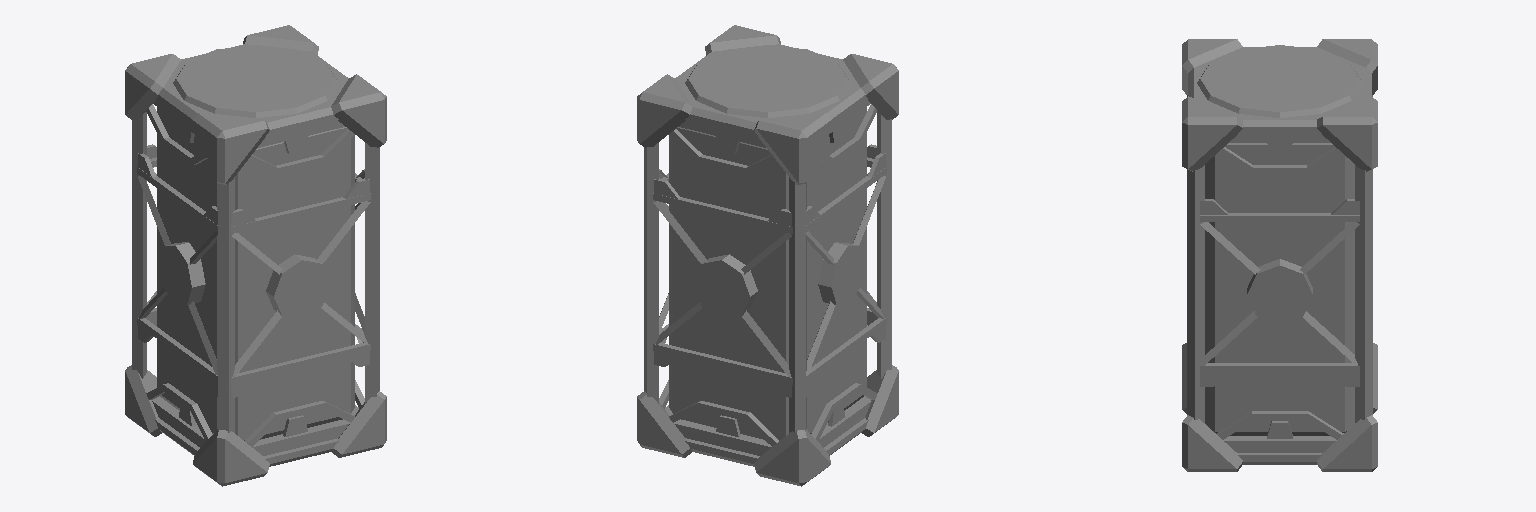
The model's file is cpz_obj_breakboxtall.obj.
3 views of the same model, side by side, from view 1: azimuth 30°, elevation 25°; view 2: azimuth 150°, elevation 25°; view 3: azimuth 270°, elevation 25° (orthographic).
Parts seen in each view (by area): view 1: ccp_water_yy_grass_FallOffV_dn, cpz_yy1_road_cmn_dp, cpz_metal_yy_slop_cmn_dpn, ccp_metal_yy_circle_Cmn_dpn, ccp_metal_yy_yelow_Cmn_dpn, cpz_metal_st1_tank01_cmn_dpnE; view 2: ccp_water_yy_grass_FallOffV_dn, cpz_yy1_road_cmn_dp, cpz_metal_yy_slop_cmn_dpn, ccp_metal_yy_circle_Cmn_dpn, ccp_metal_yy_yelow_Cmn_dpn, cpz_metal_st1_tank01_cmn_dpnE; view 3: ccp_water_yy_grass_FallOffV_dn, cpz_metal_yy_slop_cmn_dpn, cpz_yy1_road_cmn_dp, ccp_metal_yy_circle_Cmn_dpn, ccp_metal_yy_yelow_Cmn_dpn, cpz_metal_st1_tank01_cmn_dpnE.
Part boxes in pixels (x1,y1,x2,y2): ccp_water_yy_grass_FallOffV_dn: (157,107,354,440); cpz_yy1_road_cmn_dp: (132,65,379,446); cpz_metal_yy_slop_cmn_dpn: (125,25,386,486); ccp_metal_yy_circle_Cmn_dpn: (159,45,335,319); ccp_metal_yy_yelow_Cmn_dpn: (152,100,358,455); cpz_metal_st1_tank01_cmn_dpnE: (179,123,307,436); ccp_water_yy_grass_FallOffV_dn: (669,107,866,440); cpz_yy1_road_cmn_dp: (644,65,891,446); cpz_metal_yy_slop_cmn_dpn: (637,25,898,486); ccp_metal_yy_circle_Cmn_dpn: (688,45,864,319); ccp_metal_yy_yelow_Cmn_dpn: (665,100,871,455); cpz_metal_st1_tank01_cmn_dpnE: (716,123,844,436); ccp_water_yy_grass_FallOffV_dn: (1205,143,1354,435); cpz_metal_yy_slop_cmn_dpn: (1182,39,1377,471); cpz_yy1_road_cmn_dp: (1187,65,1372,439); ccp_metal_yy_circle_Cmn_dpn: (1200,45,1359,324); ccp_metal_yy_yelow_Cmn_dpn: (1223,134,1336,452); cpz_metal_st1_tank01_cmn_dpnE: (1267,143,1292,438).
Size of the model in its own units: 71.99 by 144 by 71.91.